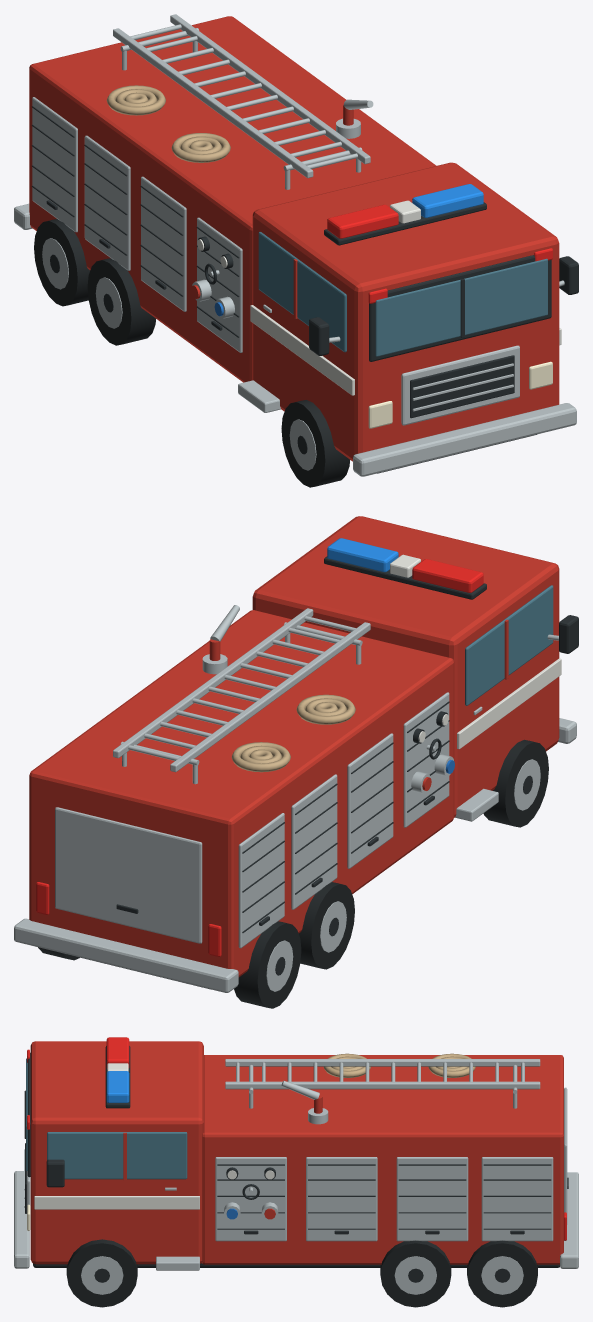
Rendered from vehicle_fire_truck.glb.
3 views of the same model, one above another, from view 1: azimuth 30°, elevation 25°; view 2: azimuth 150°, elevation 25°; view 3: azimuth 270°, elevation 25° (orthographic). The views are drawn at different scales.
Parts seen in each view (by area): view 1: Rear equipment body, Forward control fire cab, Front windshield glass, Heavy front bumper, Cab side window, Equipment compartment panel.002, Equipment compartment panel.001, Equipment compartment panel.003, Equipment compartment panel, Black front grille, Left front wheel tire, Left rear forward wheel tire (+17 smaller); view 2: Rear equipment body, Forward control fire cab, Rear equipment door, Rear step bumper, Cab side window, Equipment compartment panel.003, Equipment compartment panel.001, Equipment compartment panel.002, Equipment compartment panel, Left rear aft wheel tire, Left front wheel tire, Left rear forward wheel tire (+13 smaller); view 3: Rear equipment body, Forward control fire cab, Cab side window.001, Equipment compartment panel.007, Equipment compartment panel.006, Equipment compartment panel.005, Equipment compartment panel.004, Roof ladder side rail.001, Right front wheel tire, Right rear forward wheel tire, Right rear aft wheel tire, Roof ladder side rail (+16 smaller).
Part boxes in pixels (left/top/right/bottom): Rear equipment body: left=29, top=16, right=436, bottom=382; Forward control fire cab: left=252, top=162, right=559, bottom=461; Front windshield glass: left=375, top=258, right=547, bottom=356; Heavy front bumper: left=353, top=403, right=576, bottom=476; Cab side window: left=258, top=232, right=346, bottom=352; Equipment compartment panel.002: left=84, top=135, right=130, bottom=270; Equipment compartment panel.001: left=141, top=176, right=186, bottom=311; Equipment compartment panel.003: left=32, top=97, right=77, bottom=232; Equipment compartment panel: left=197, top=217, right=242, bottom=352; Black front grille: left=410, top=355, right=514, bottom=418; Left front wheel tire: left=281, top=400, right=349, bottom=487; Left rear forward wheel tire: left=87, top=258, right=155, bottom=345; Rear equipment body: left=29, top=610, right=454, bottom=977; Forward control fire cab: left=252, top=516, right=559, bottom=817; Rear equipment door: left=55, top=807, right=202, bottom=943; Rear step bumper: left=14, top=918, right=238, bottom=992; Cab side window: left=465, top=585, right=553, bottom=705; Equipment compartment panel.003: left=238, top=813, right=284, bottom=948; Equipment compartment panel.001: left=347, top=733, right=393, bottom=868; Equipment compartment panel.002: left=291, top=774, right=337, bottom=909; Equipment compartment panel: left=403, top=692, right=449, bottom=827; Left rear aft wheel tire: left=234, top=921, right=301, bottom=1008; Left front wheel tire: left=483, top=739, right=548, bottom=827; Left rear forward wheel tire: left=299, top=882, right=354, bottom=969; Rear equipment body: left=202, top=1055, right=563, bottom=1264; Forward control fire cab: left=30, top=1041, right=203, bottom=1264; Cab side window.001: left=47, top=1132, right=187, bottom=1179; Equipment compartment panel.007: left=481, top=1157, right=553, bottom=1241; Equipment compartment panel.006: left=396, top=1157, right=468, bottom=1241; Equipment compartment panel.005: left=306, top=1157, right=377, bottom=1241; Equipment compartment panel.004: left=215, top=1157, right=286, bottom=1241; Roof ladder side rail.001: left=225, top=1081, right=540, bottom=1089; Right front wheel tire: left=66, top=1239, right=137, bottom=1307; Right rear forward wheel tire: left=380, top=1240, right=451, bottom=1307; Right rear aft wheel tire: left=467, top=1240, right=537, bottom=1307; Roof ladder side rail: left=225, top=1059, right=540, bottom=1066.
Size of the model in its own units: 3.09 by 2.92 by 7.17.
